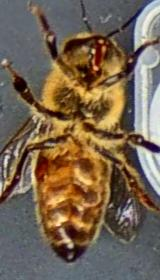varroa_mite: (29, 147, 52, 181)
